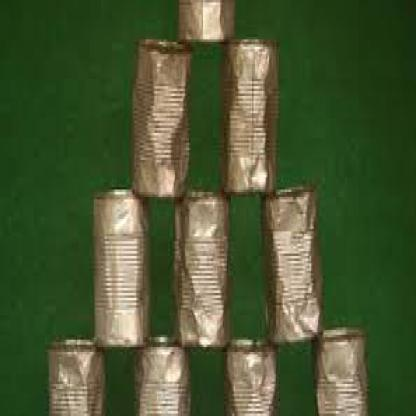METAL: (260, 180, 320, 344), (171, 190, 231, 350), (91, 187, 150, 347), (129, 37, 188, 194), (220, 37, 274, 192), (312, 325, 367, 413), (46, 337, 108, 414), (223, 335, 280, 414), (133, 335, 189, 414), (176, 0, 234, 40)
